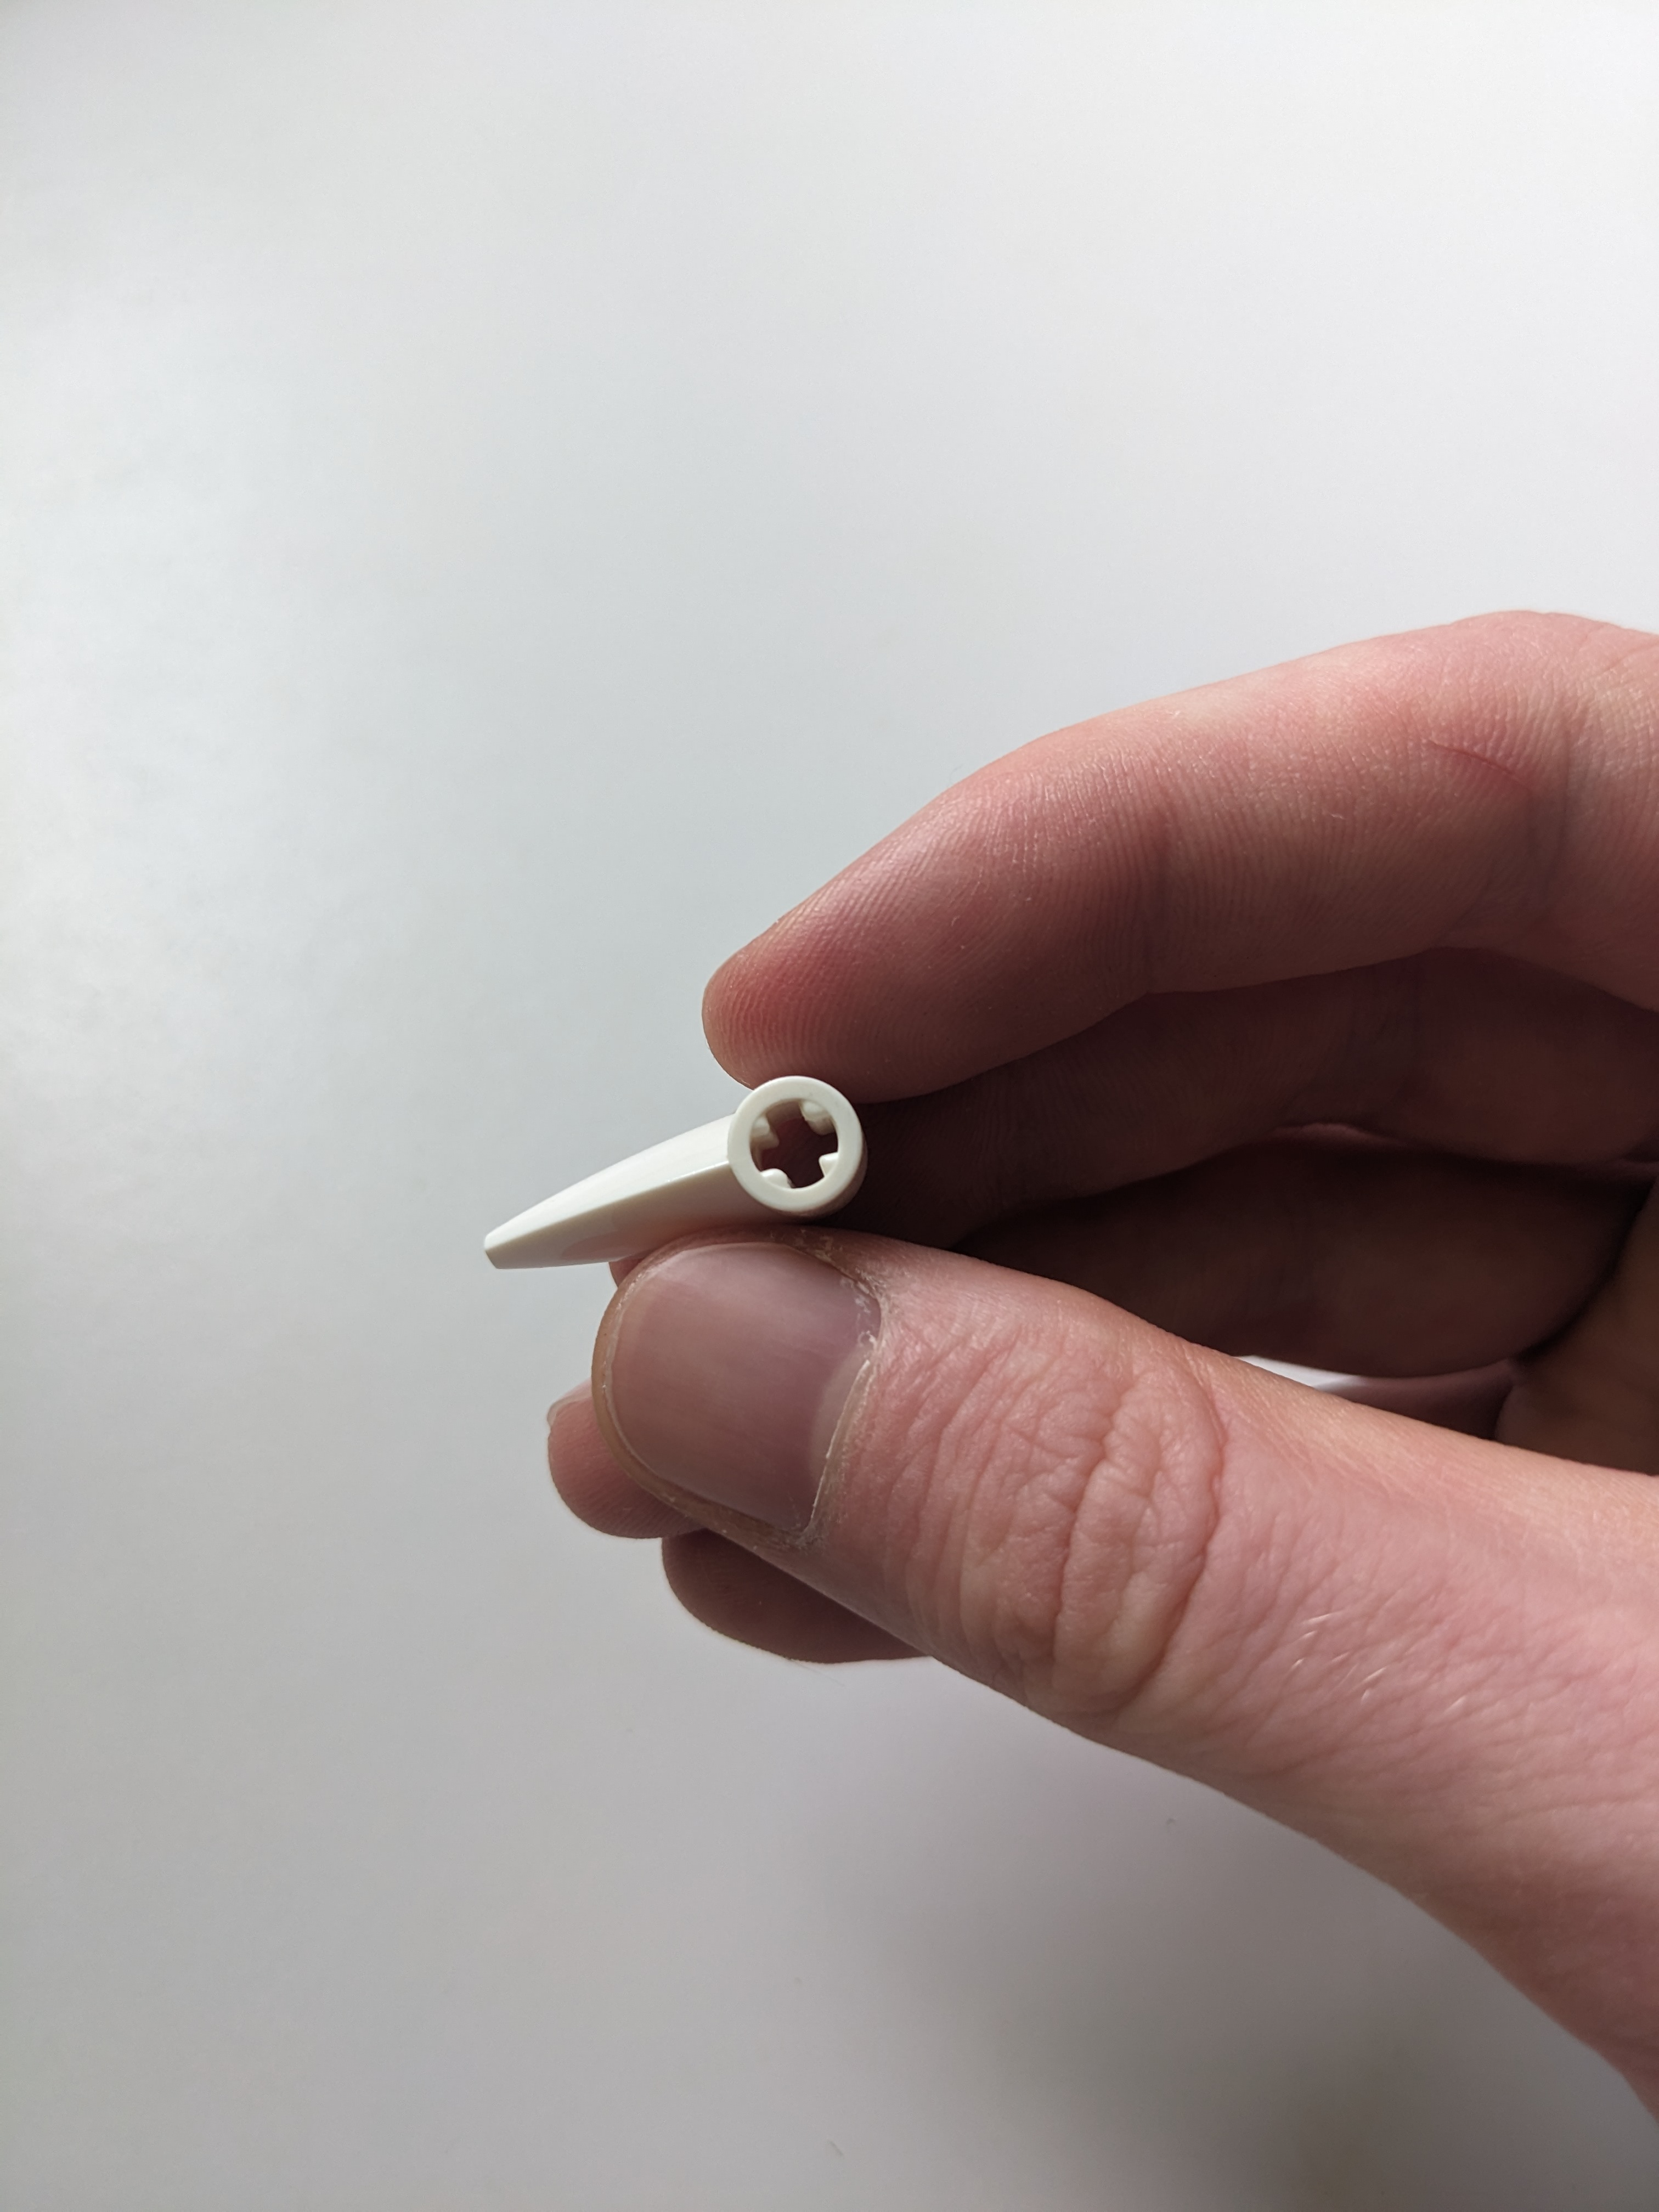Kappe: (469, 1045, 887, 1320)
